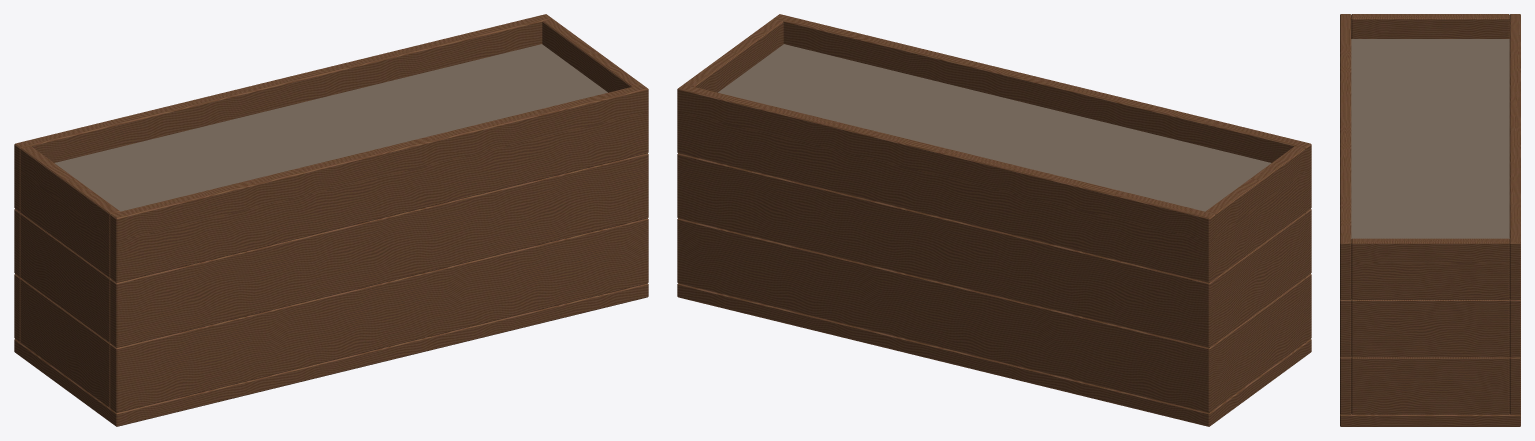
The model's file is planter_box.glb.
The picture shows the model from 3 angles, left to right: view 1: azimuth 30°, elevation 25°; view 2: azimuth 150°, elevation 25°; view 3: azimuth 270°, elevation 25°; orthographic projection. The views are drawn at different scales.
Parts seen in each view (by area): view 1: planter_box.001; view 2: planter_box.001; view 3: planter_box.001.
Part boxes in pixels (bbox=[...]): planter_box.001: bbox=[14, 14, 648, 426]; planter_box.001: bbox=[677, 14, 1311, 426]; planter_box.001: bbox=[1340, 14, 1520, 426].
Size of what is drawn, in the model's own units: 1.2 by 0.45 by 0.4.
2 materials, 1 textured.
